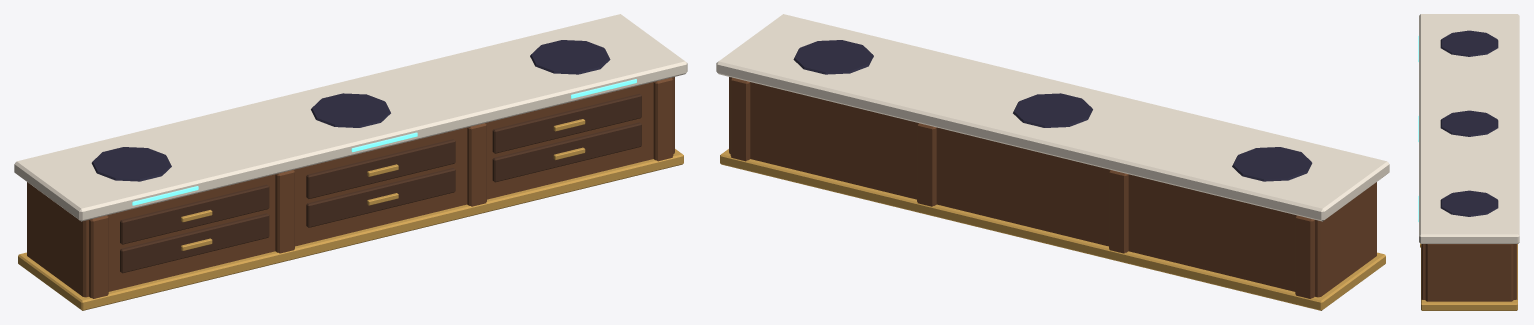
File: ToolWorkbench_Prototype.fbx
The picture shows the model from 3 angles, left to right: view 1: azimuth 30°, elevation 25°; view 2: azimuth 150°, elevation 25°; view 3: azimuth 270°, elevation 25°; orthographic projection. The views are drawn at different scales.
Parts seen in each view (by area): view 1: StoneTop, TimberFrame, Drawers, BrassTrim, Cradles, AccentInlay; view 2: TimberFrame, StoneTop, BrassTrim, Cradles; view 3: StoneTop, TimberFrame, Cradles, BrassTrim.
Boxes of the visible parts, x1,y1,x2,y2 form: StoneTop: (14, 14, 687, 221); TimberFrame: (27, 77, 674, 298); Drawers: (120, 93, 641, 273); BrassTrim: (18, 119, 683, 310); Cradles: (91, 40, 610, 181); AccentInlay: (132, 79, 636, 205); TimberFrame: (729, 77, 1376, 298); StoneTop: (716, 14, 1389, 221); BrassTrim: (720, 149, 1385, 310); Cradles: (793, 40, 1312, 181); StoneTop: (1419, 14, 1519, 243); TimberFrame: (1421, 244, 1517, 301); Cradles: (1440, 30, 1498, 216); BrassTrim: (1420, 243, 1517, 310).
Bounding box in the file's own units: 22.2 × 3.66 × 4.28.
